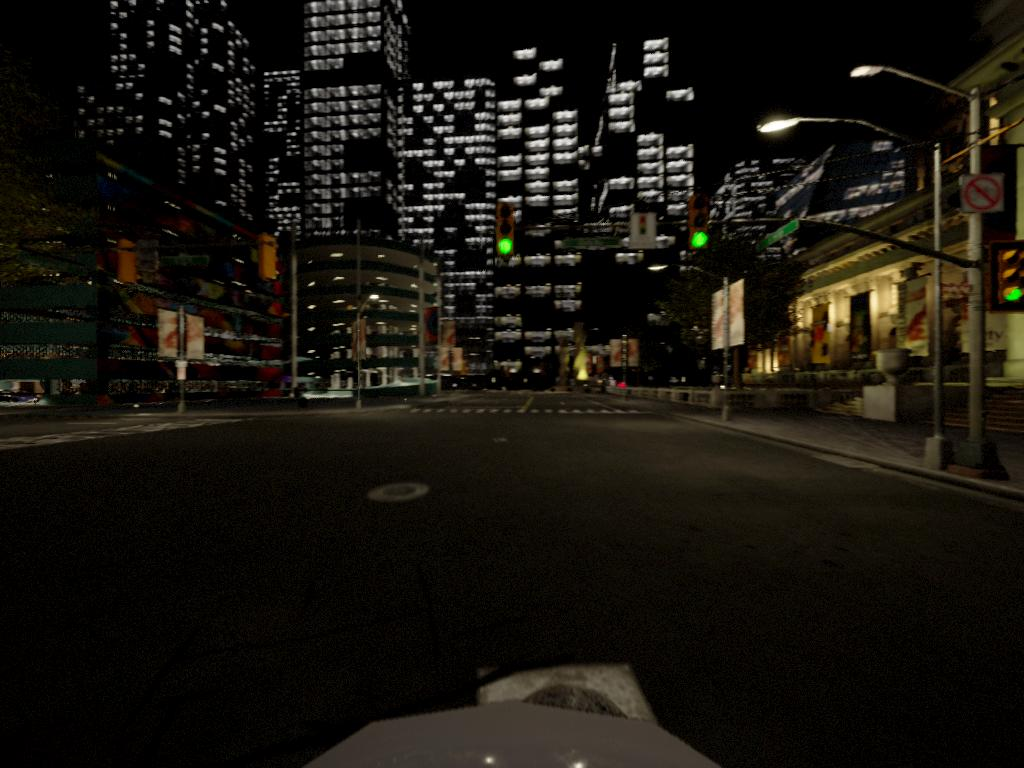traffic_light: (995, 242, 1024, 310), (687, 199, 713, 253), (494, 207, 517, 256), (257, 235, 279, 286), (116, 240, 139, 286)
